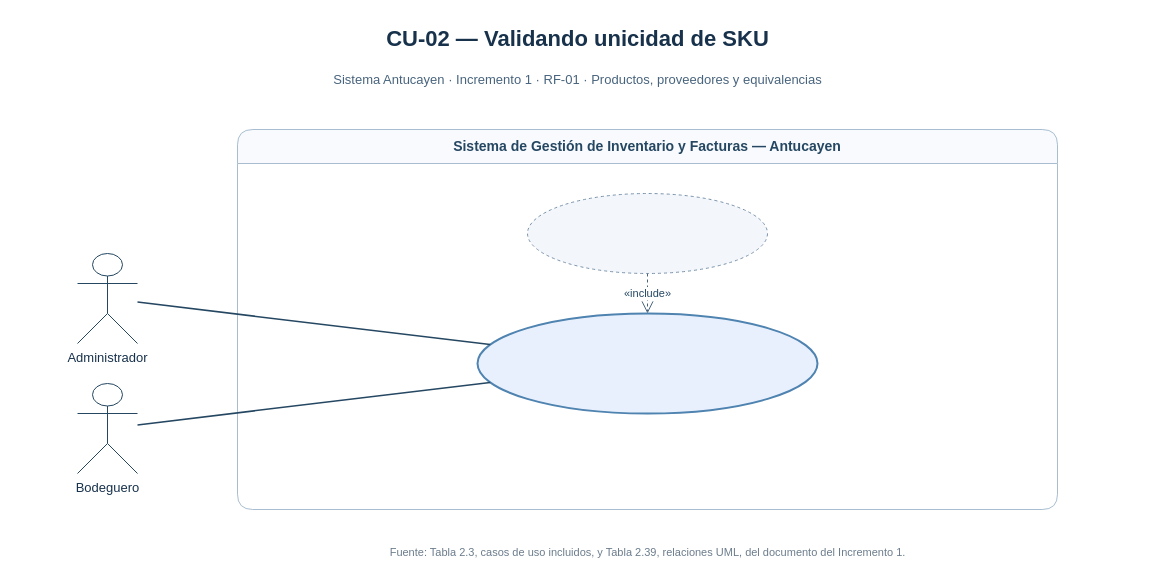
This 1154x582 diagram has some shape labels left out. The shapes that lost their labels are listed below. From the top down, each one's centre as x and y in pixels, then its label:
[647,233]: CU-01 Registrando producto
[647,363]: CU-02 Validando unicidad de SKU
